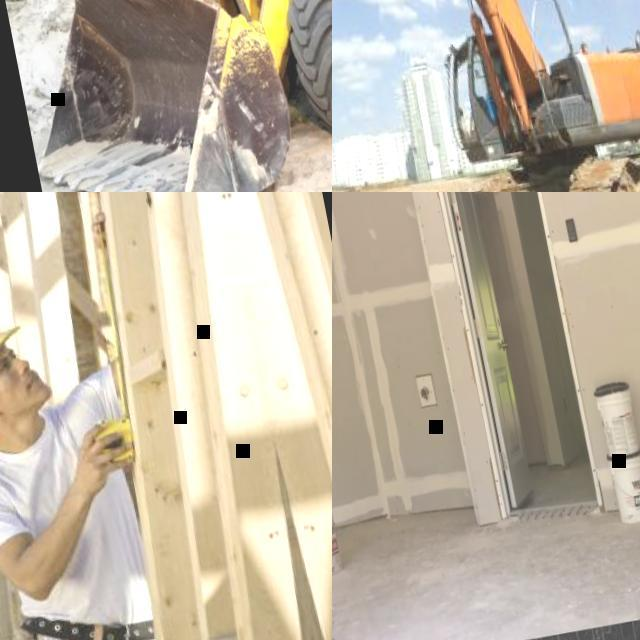Robbery: (0, 257, 134, 640)
